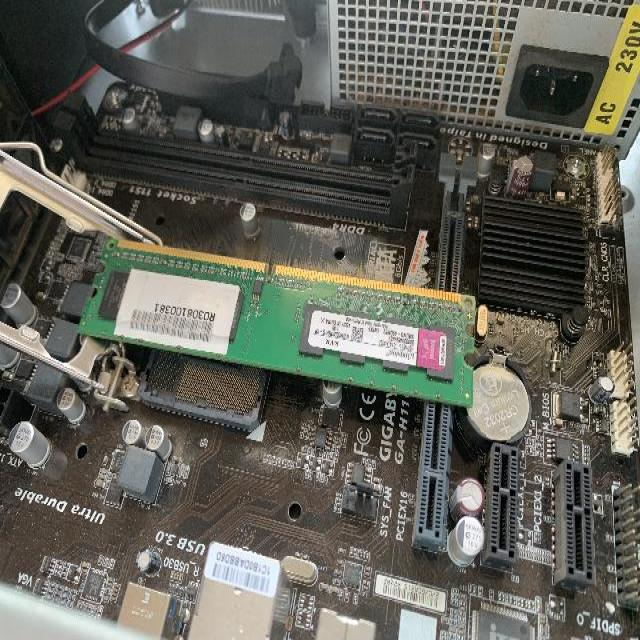Mainboard: (0, 101, 640, 635)
PSU: (321, 0, 640, 151)
RAM: (80, 230, 478, 413)
